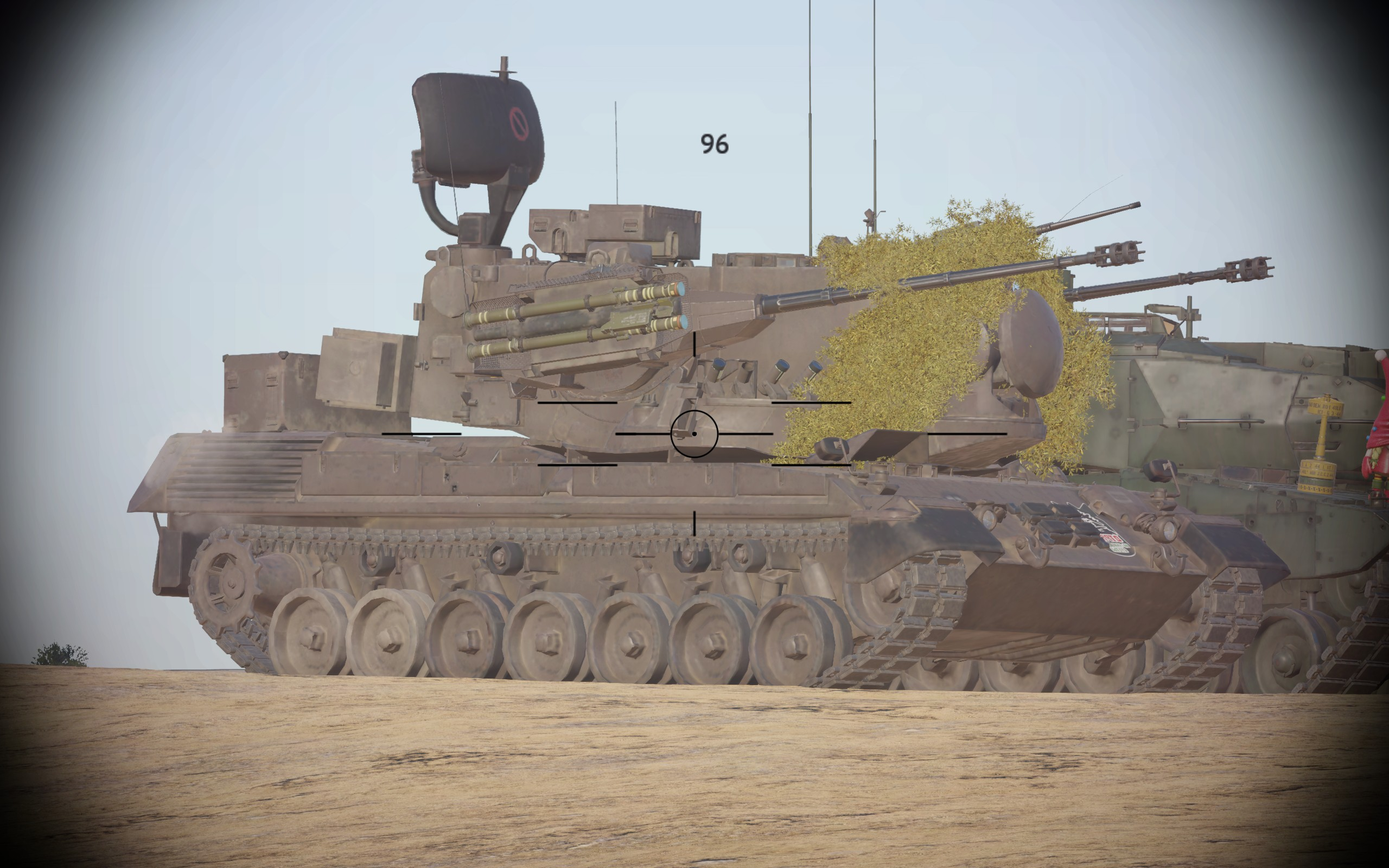spaa_gepard: (125, 68, 1274, 692)
